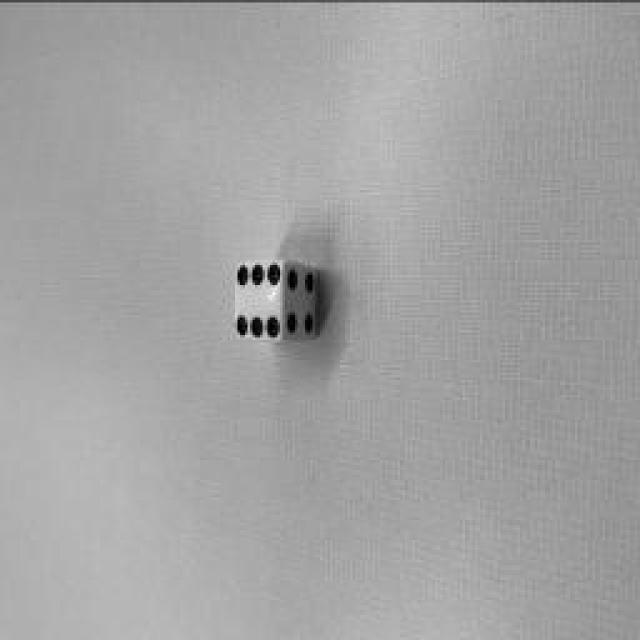dice_6: (235, 260, 283, 340)
